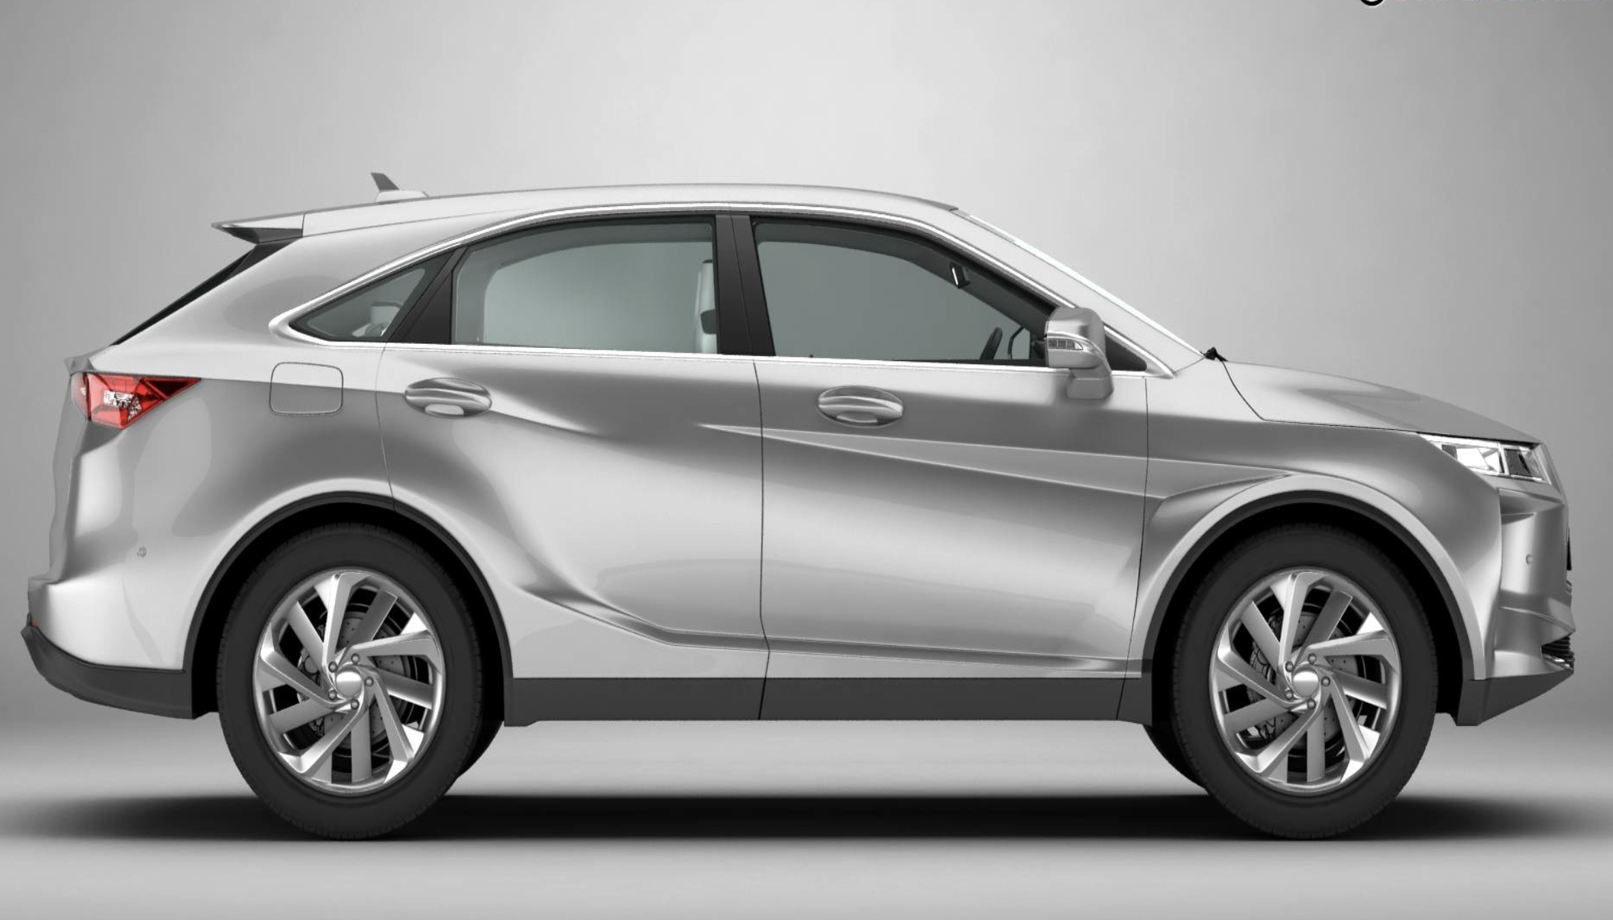hatch: (264, 358, 349, 421)
